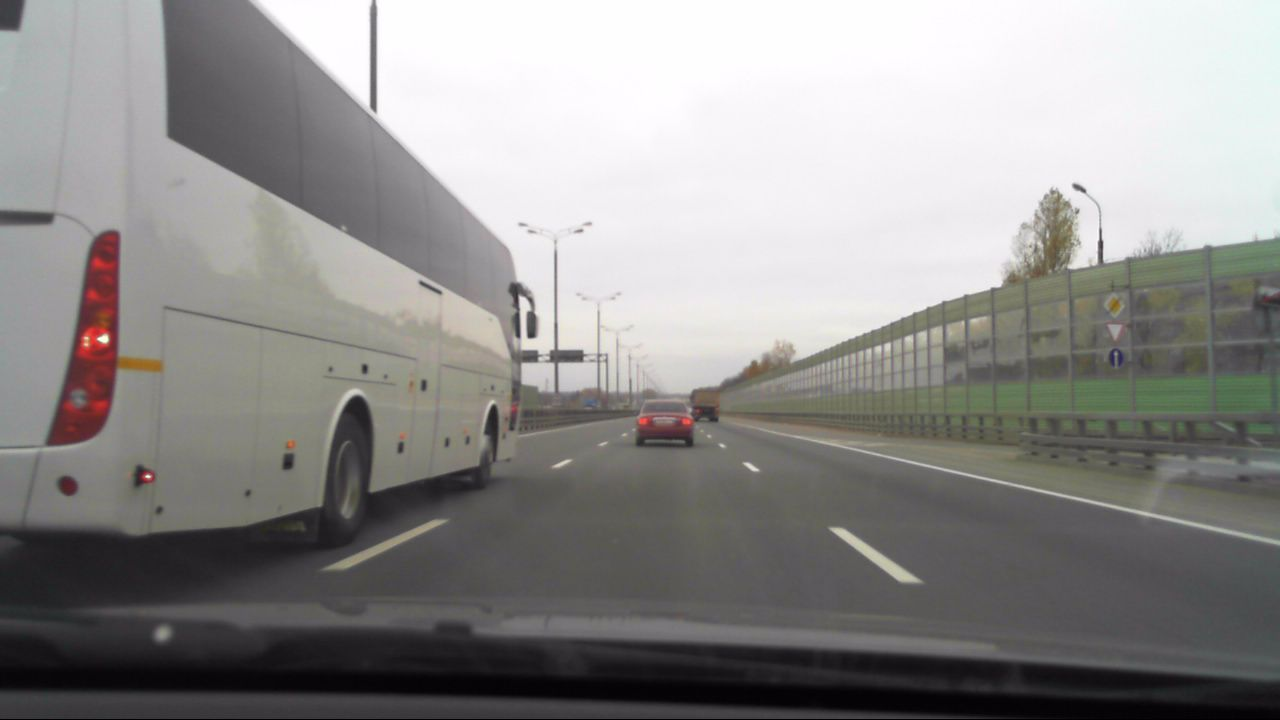main road: (1100, 293, 1127, 318)
